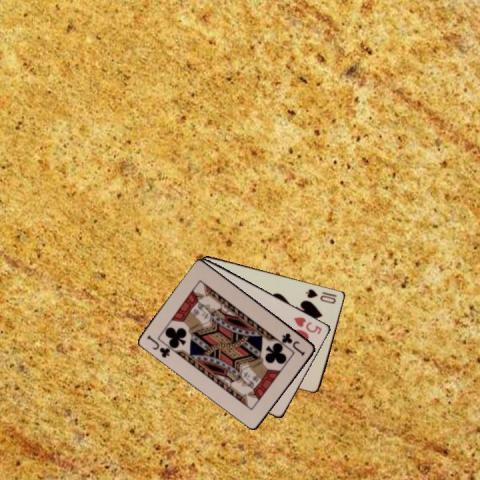10s: (304, 286, 338, 305)
5h: (291, 314, 323, 336)
Jc: (279, 330, 307, 357), (144, 332, 172, 359)
